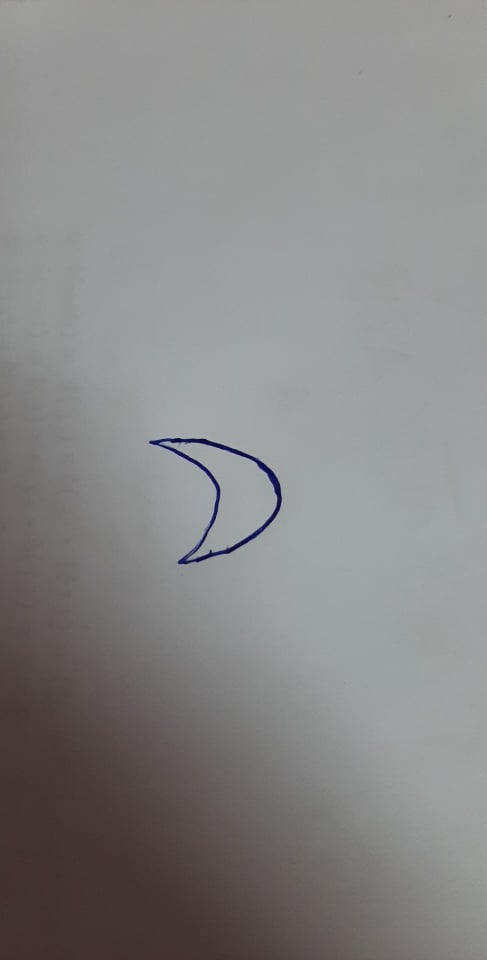or: (150, 431, 296, 583)
